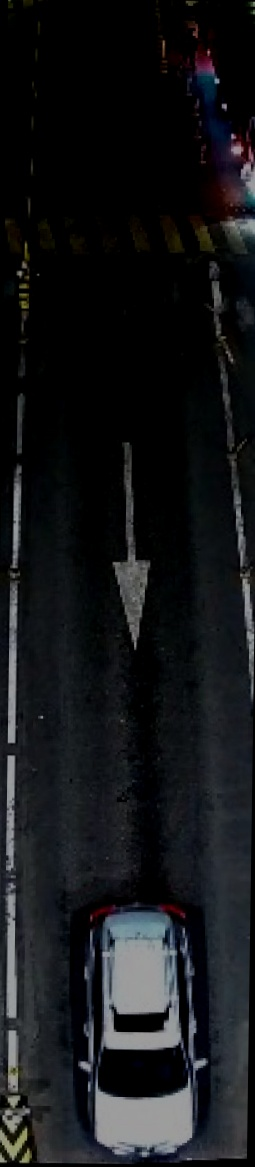car: (67, 888, 219, 1159)
